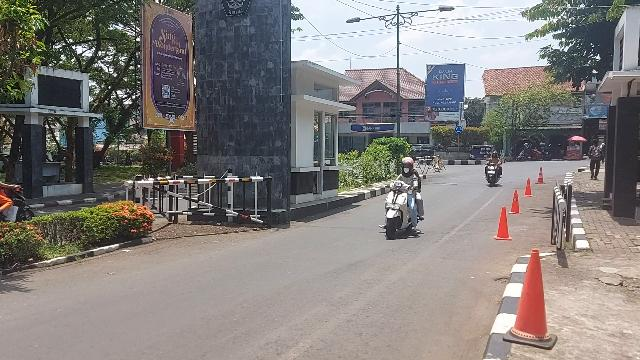helm: (404, 160, 415, 175), (494, 153, 499, 159)
motor: (385, 182, 420, 241), (488, 164, 501, 188)
